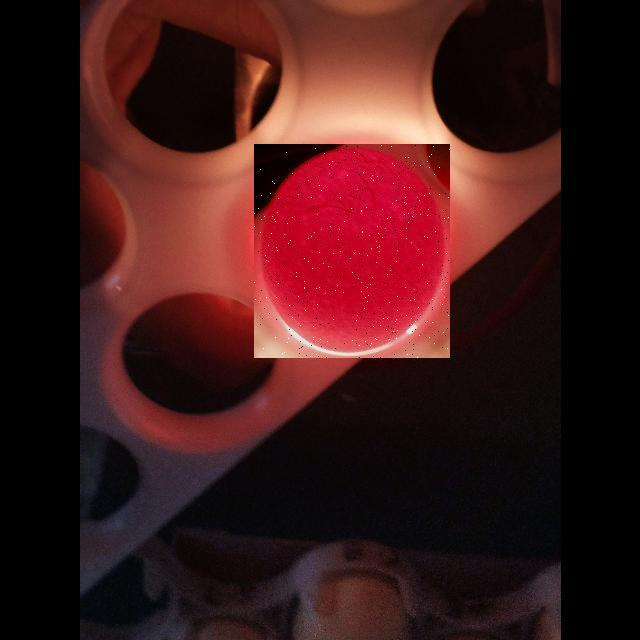Infertile: (254, 144, 450, 358)
